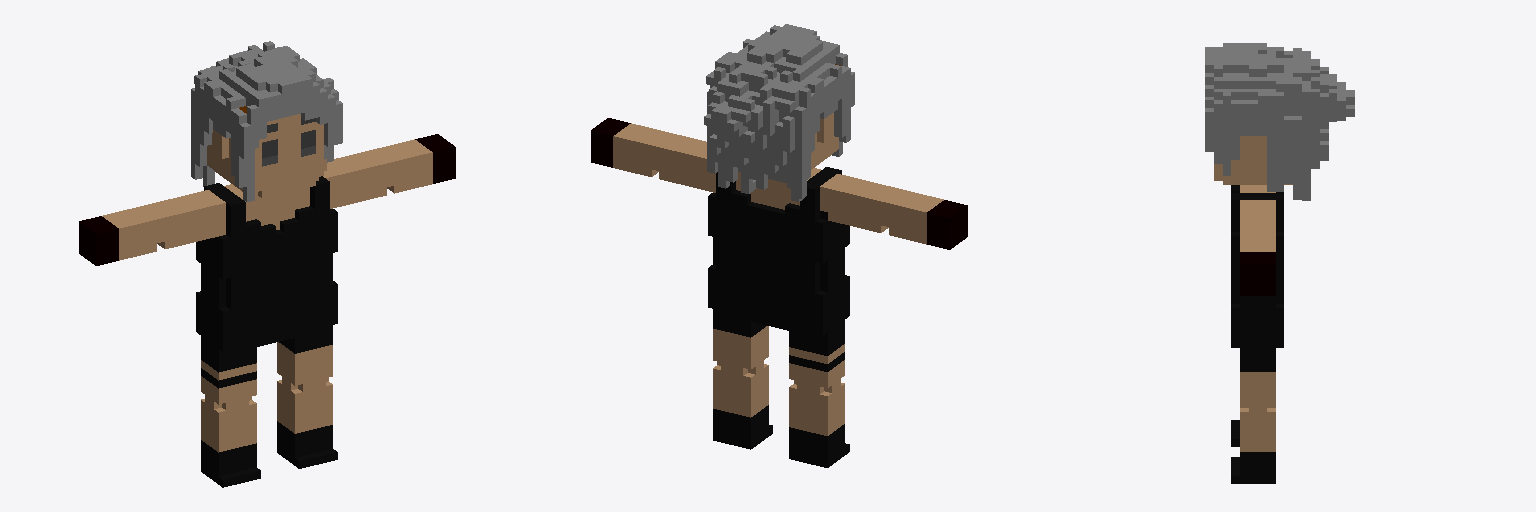
The picture shows the model from 3 angles: view 1: azimuth 30°, elevation 25°; view 2: azimuth 150°, elevation 25°; view 3: azimuth 270°, elevation 25°; orthographic projection.
Parts seen in each view (by area): view 1: object 1; view 2: object 1; view 3: object 1.
Part boxes in pixels (x1,y1,x2,y2): object 1: (79,41,455,487); object 1: (591,24,967,467); object 1: (1205,43,1354,483).
Size of the model in its own units: 4.7 by 5 by 1.7.
Materials: 1 (1 with a texture image).